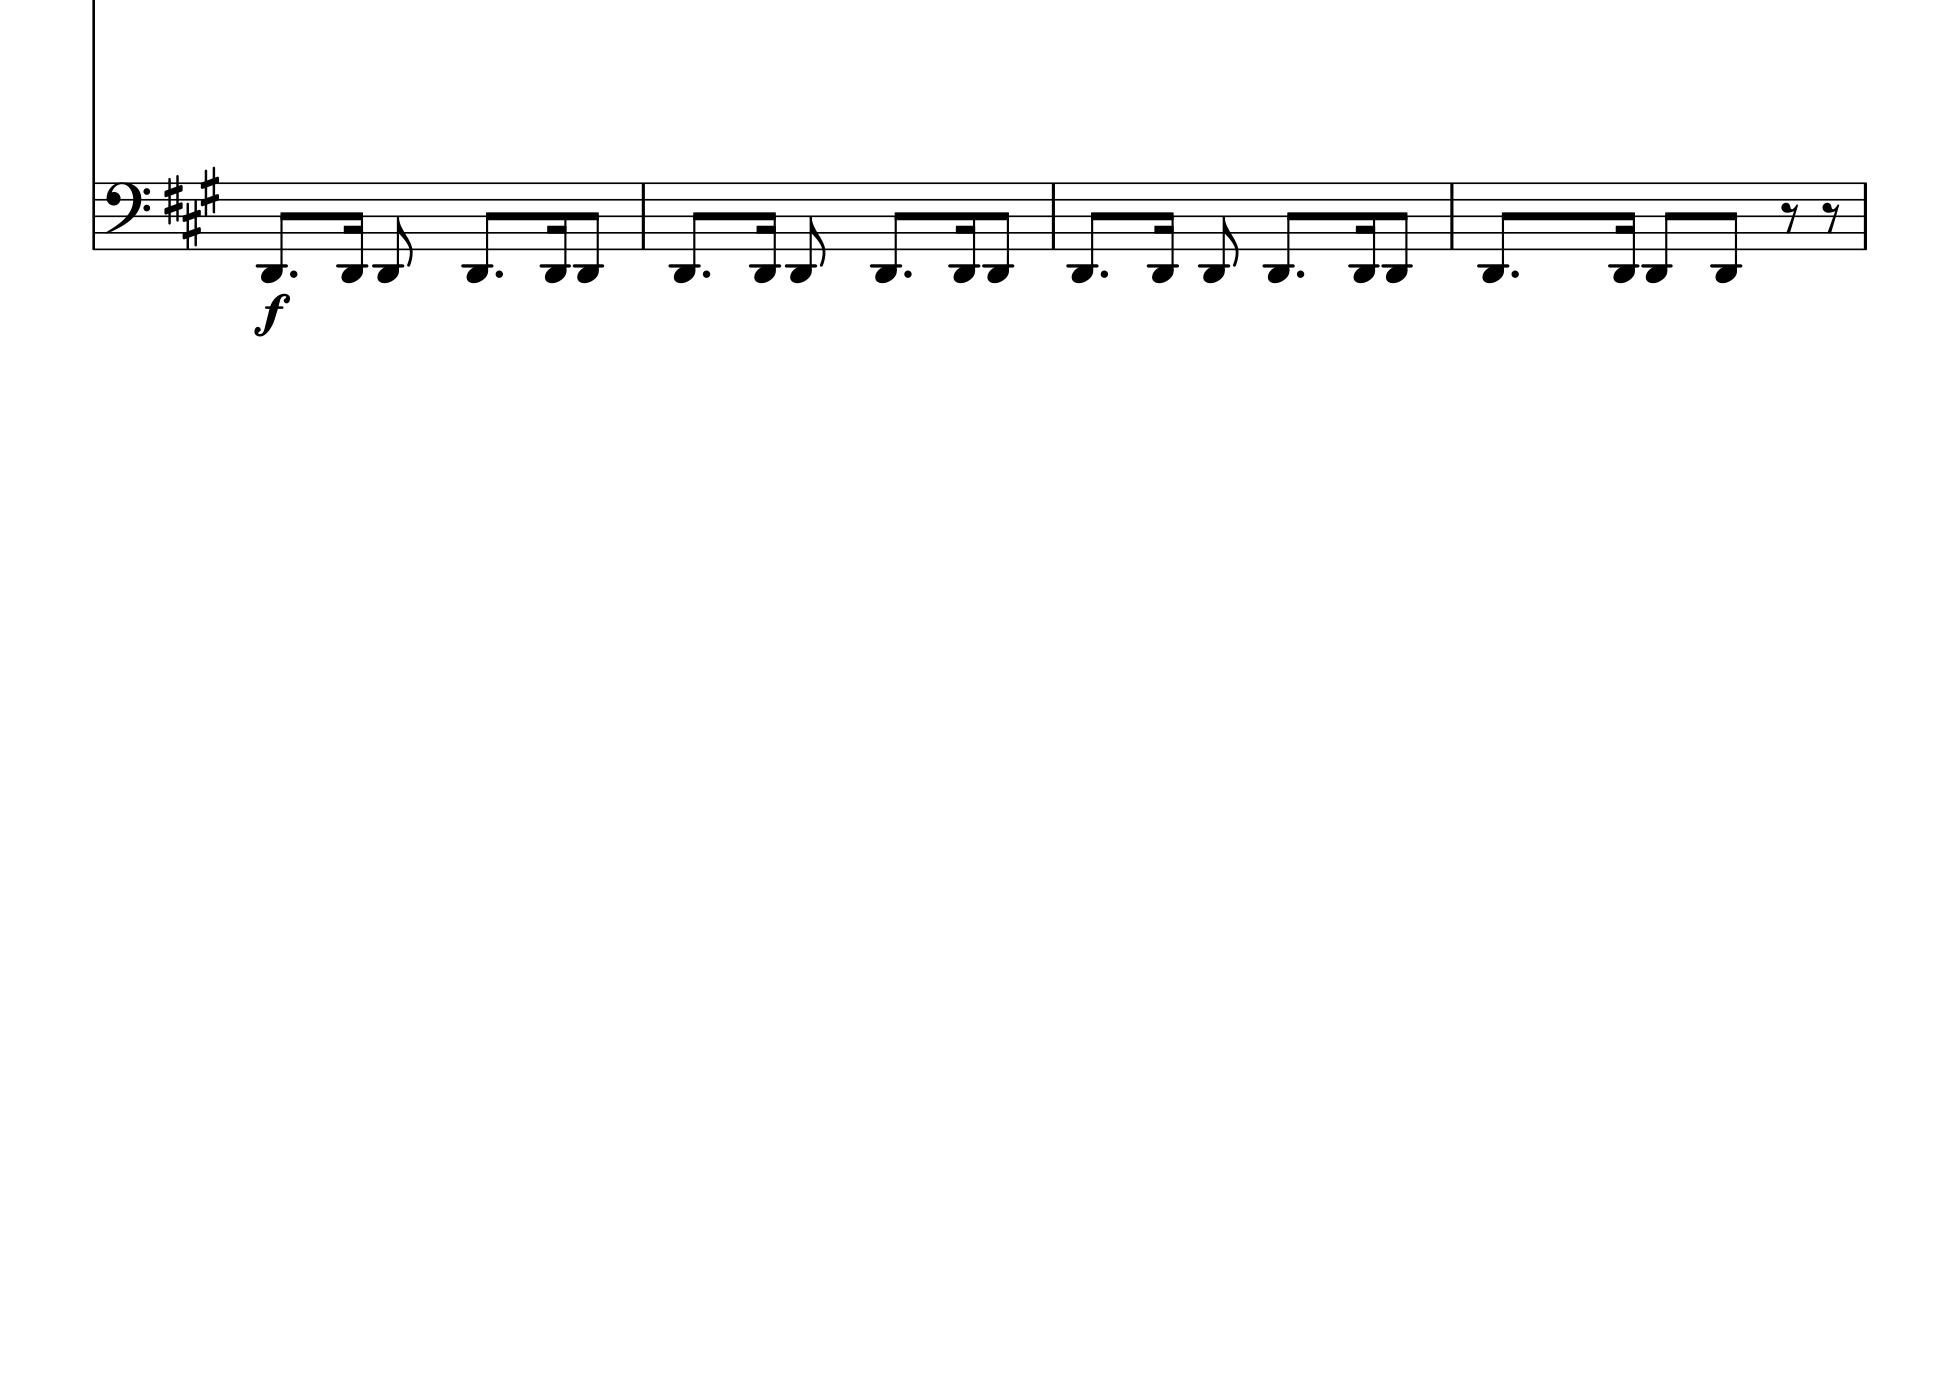16_-3: (1347, 181, 1380, 283), (1609, 181, 1641, 283), (339, 183, 367, 286), (1150, 181, 1179, 283), (541, 181, 568, 285), (949, 180, 976, 283), (751, 181, 778, 283)
8_-3: (372, 181, 415, 283), (784, 181, 828, 283), (1200, 180, 1242, 283), (255, 181, 289, 283), (460, 181, 495, 283), (1068, 181, 1101, 285), (868, 178, 901, 282), (984, 180, 1017, 283), (1708, 181, 1741, 285), (1482, 180, 1515, 283), (1263, 180, 1296, 283), (571, 181, 604, 283), (670, 181, 703, 283), (1644, 181, 1677, 283), (1380, 181, 1413, 283)
A_S: (160, 163, 220, 250)
Fclef: (106, 183, 151, 253)
Rests8: (1779, 201, 1801, 232), (1818, 199, 1840, 231)
Single_barline: (1857, 181, 1875, 250), (636, 181, 652, 250), (1444, 181, 1461, 250), (1047, 183, 1062, 250), (87, 181, 100, 250)
dot: (1293, 265, 1308, 280), (492, 265, 505, 280), (699, 265, 712, 280), (1098, 265, 1111, 280), (288, 267, 301, 280), (901, 265, 913, 280), (1509, 267, 1521, 280)
f: (249, 291, 292, 337)
